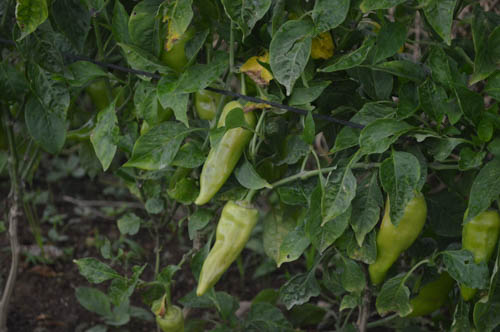ChiliPepper: (194, 204, 259, 295), (197, 98, 250, 201), (365, 193, 418, 283), (463, 203, 497, 297)
